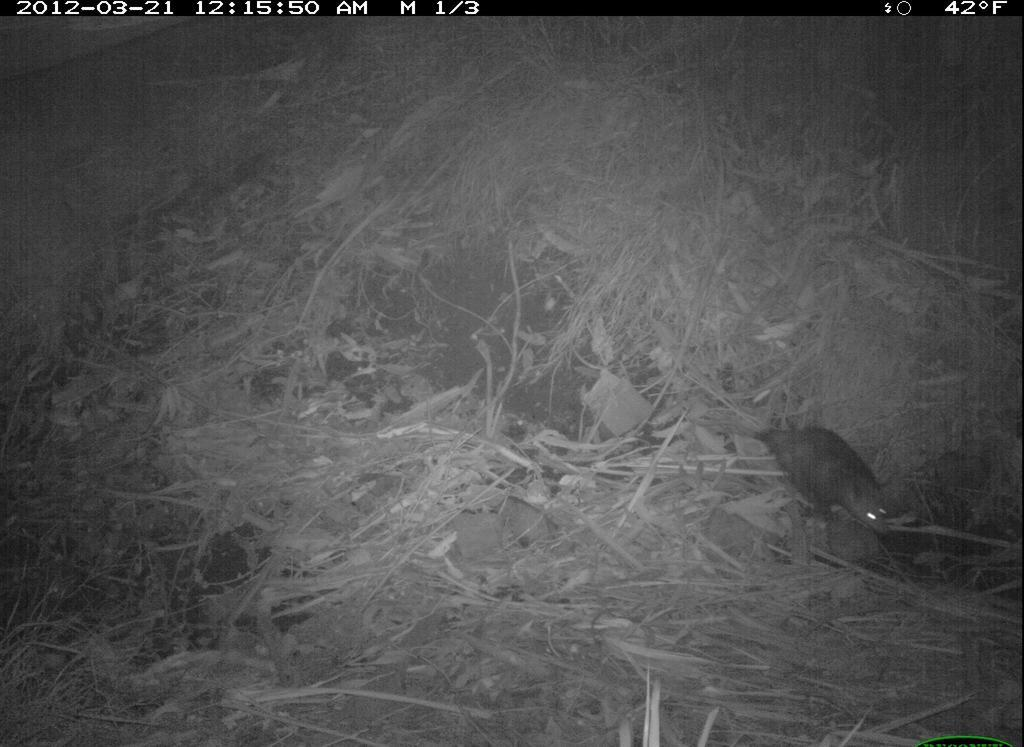opossum: (705, 415, 898, 545)
